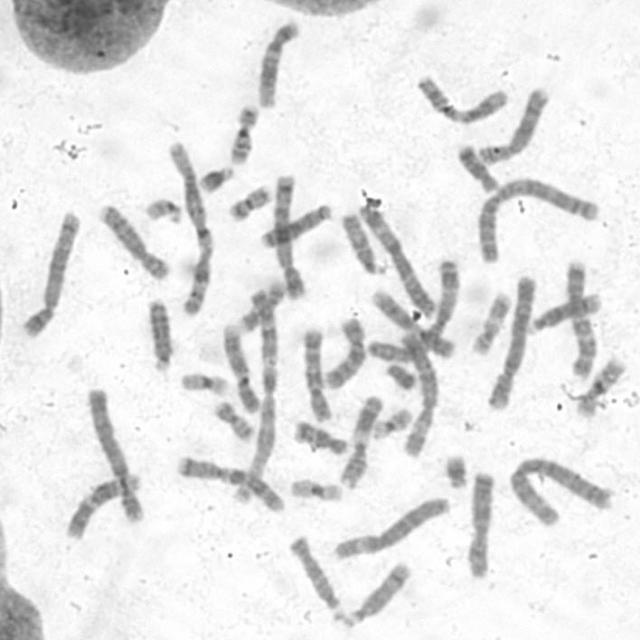A1: (230, 274, 283, 510), (162, 136, 217, 318)
A2: (472, 174, 603, 265), (504, 453, 615, 527)
A3: (353, 198, 438, 320), (362, 258, 460, 362)
B4: (83, 384, 147, 527), (484, 270, 538, 412)
B5: (18, 205, 83, 339), (268, 168, 308, 302)
C10: (318, 313, 369, 391), (299, 324, 335, 423)
C11: (412, 70, 511, 126), (335, 391, 385, 488)
C12: (62, 469, 144, 542), (255, 16, 302, 110)
C6: (330, 492, 452, 562), (392, 310, 441, 462)
C7: (172, 452, 286, 515), (560, 253, 598, 381)
C8: (94, 200, 172, 282), (474, 82, 550, 166)
C9: (363, 263, 460, 362), (220, 322, 260, 416)
D13: (258, 200, 334, 250), (142, 293, 175, 373)
D14: (339, 558, 413, 632), (523, 289, 605, 336)
D15: (285, 532, 344, 616), (339, 207, 388, 276)
E16: (572, 353, 628, 419), (226, 99, 260, 166)
E17: (233, 277, 287, 335), (468, 288, 513, 357)
E18: (452, 140, 501, 194), (288, 416, 349, 457)
F19: (286, 476, 344, 504), (178, 369, 231, 398)
F20: (225, 180, 273, 224), (211, 396, 256, 442)
G21: (194, 162, 235, 195), (441, 450, 470, 490)
G22: (368, 403, 414, 441), (143, 194, 184, 225)
X: (465, 467, 497, 580)
Y: (383, 360, 419, 390)
